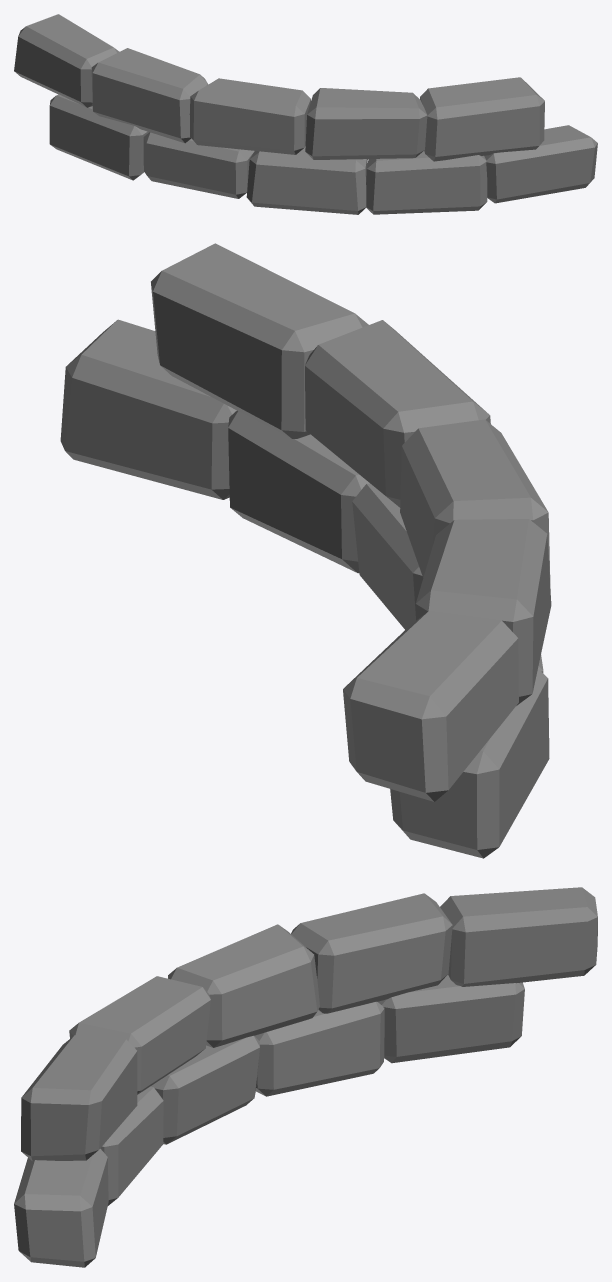
File: BrickWall2mSection_01_T90_Mid.fbx
3 views of the same model, one above another, from view 1: azimuth 30°, elevation 25°; view 2: azimuth 150°, elevation 25°; view 3: azimuth 270°, elevation 25° (orthographic). The views are drawn at different scales.
Parts seen in each view (by area): view 1: BrickWall2mSection_01_T90_Mid; view 2: BrickWall2mSection_01_T90_Mid; view 3: BrickWall2mSection_01_T90_Mid.
Boxes of the visible parts, x1=… form: BrickWall2mSection_01_T90_Mid: x1=14, y1=14, x2=597, y2=214; BrickWall2mSection_01_T90_Mid: x1=60, y1=243, x2=551, y2=858; BrickWall2mSection_01_T90_Mid: x1=14, y1=887, x2=597, y2=1267.
Size of the model in its own units: 153 by 41.78 by 150.
